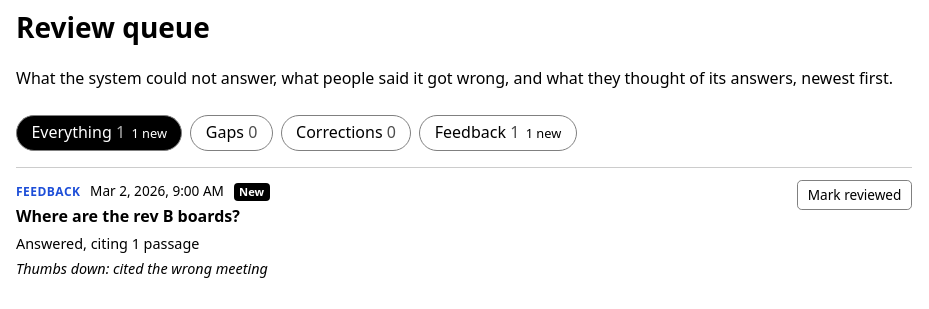
Scenario: the review page › marks an item reviewed, and can put it back
Click the button "Mark reviewed" at (855, 195), box [797,180,912,210]
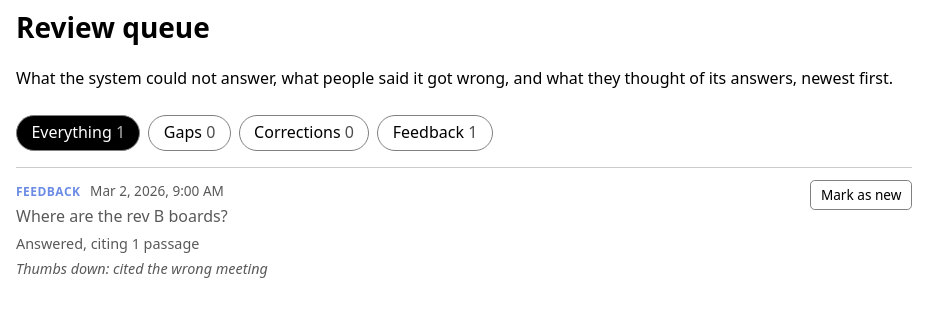
Expected: the text "New" is not shown
Expected: the list item has class "reviewed", [16,167,912,292]
Click the button "Mark as new" at (861, 195), box [810,180,912,210]
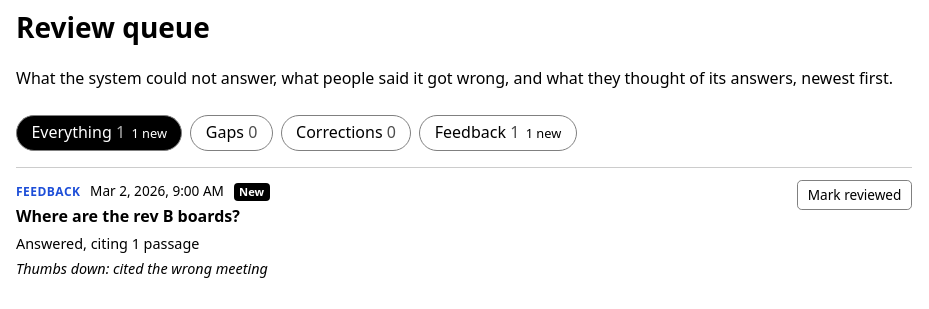
Expected: the button "Mark reviewed" is shown, [797,180,912,210]
